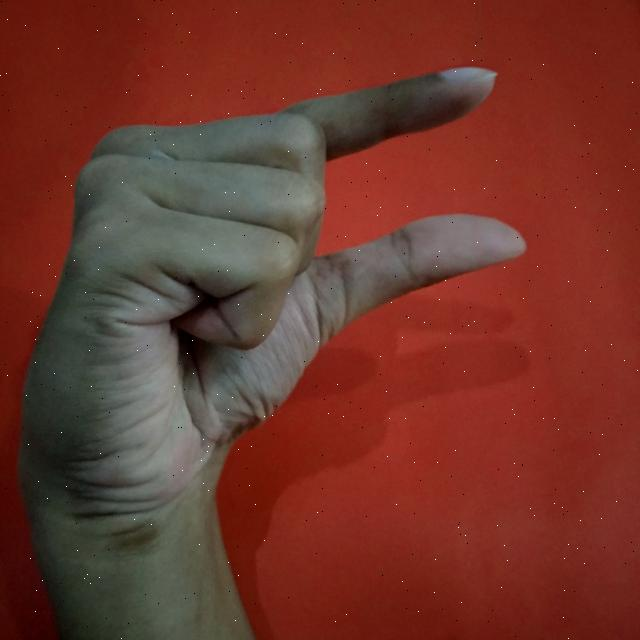G: (13, 62, 531, 640)
